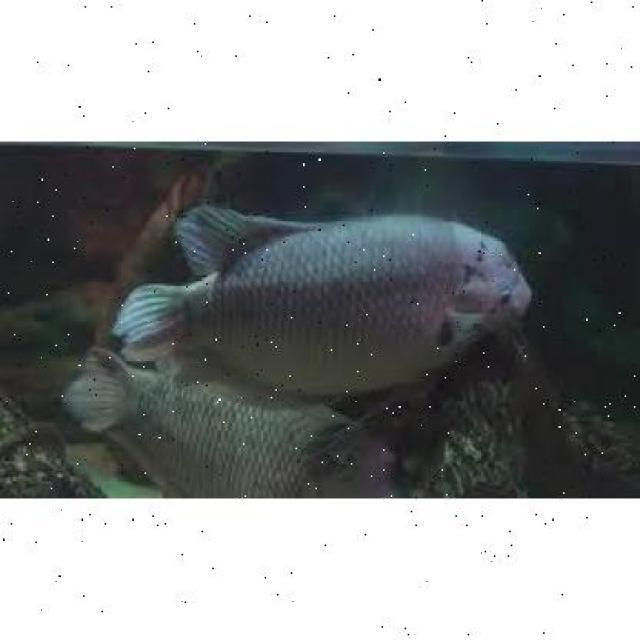gurame: (130, 209, 544, 391), (76, 355, 401, 497)
